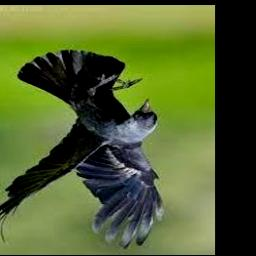Crow: (0, 51, 163, 249)
